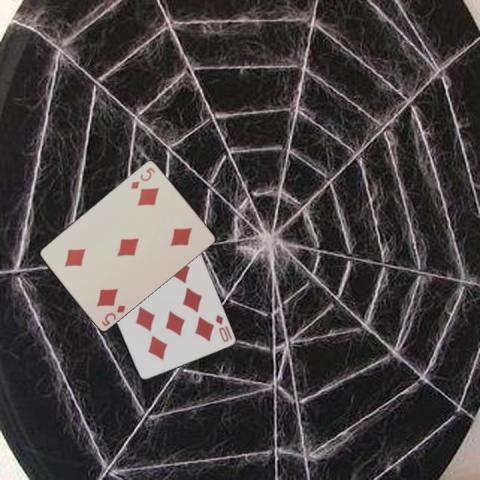10d: (212, 312, 230, 344)
5d: (98, 301, 127, 328), (127, 164, 157, 190)
